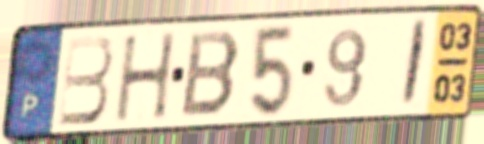5: (246, 20, 296, 120)
9: (321, 25, 370, 109)
B: (178, 30, 244, 120), (56, 33, 116, 129)
H: (113, 29, 179, 126)
I: (397, 17, 432, 111)
